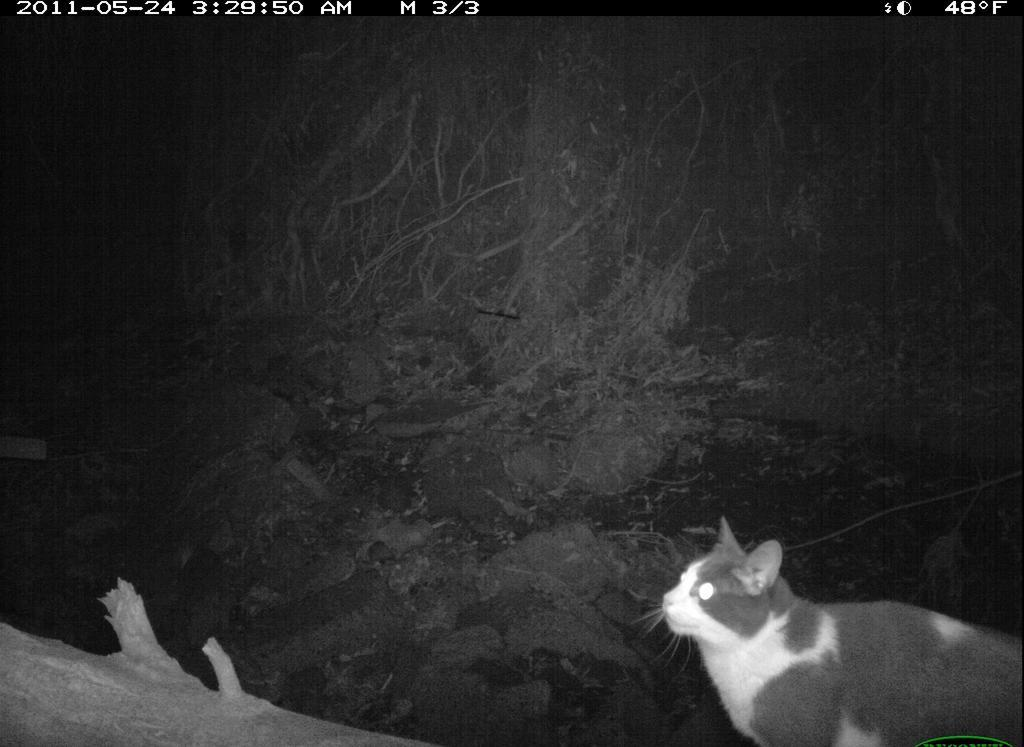cat: (653, 511, 1023, 743)
